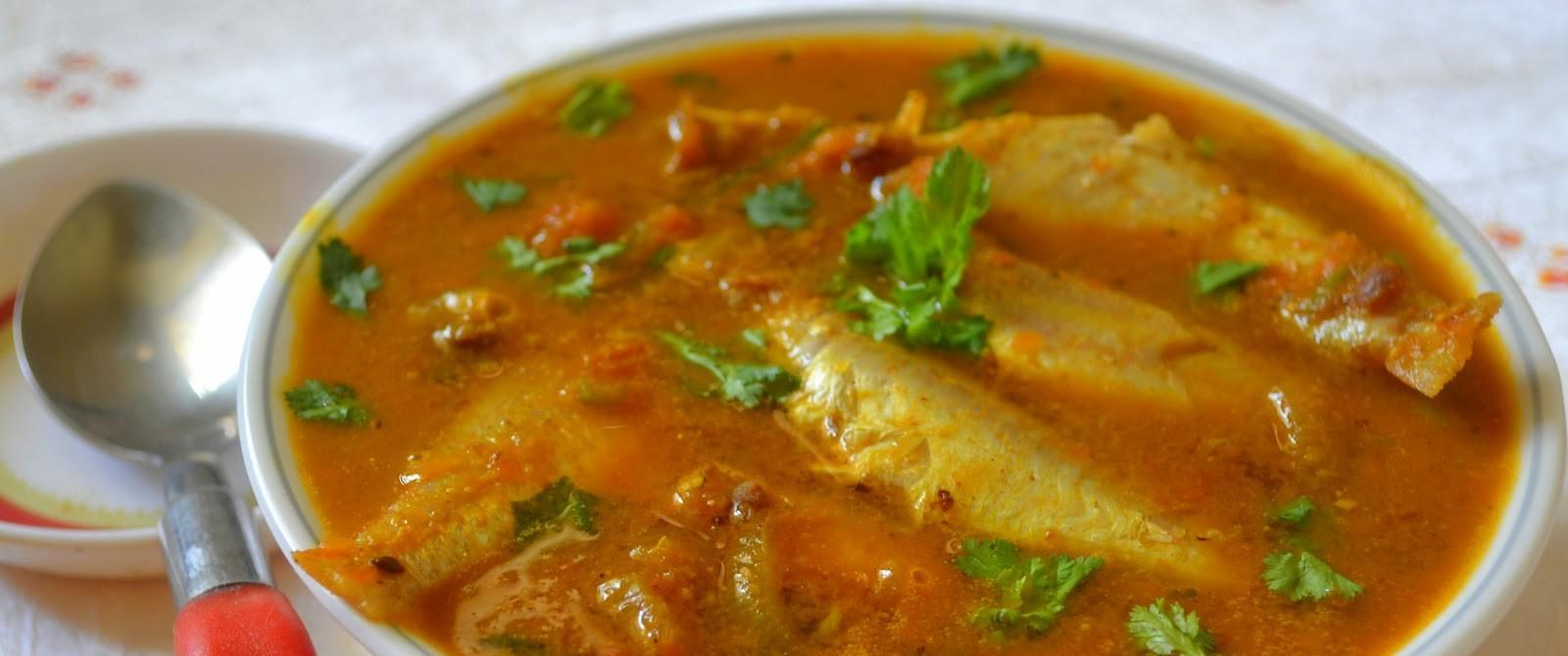FishCurry: (275, 37, 1530, 652)
